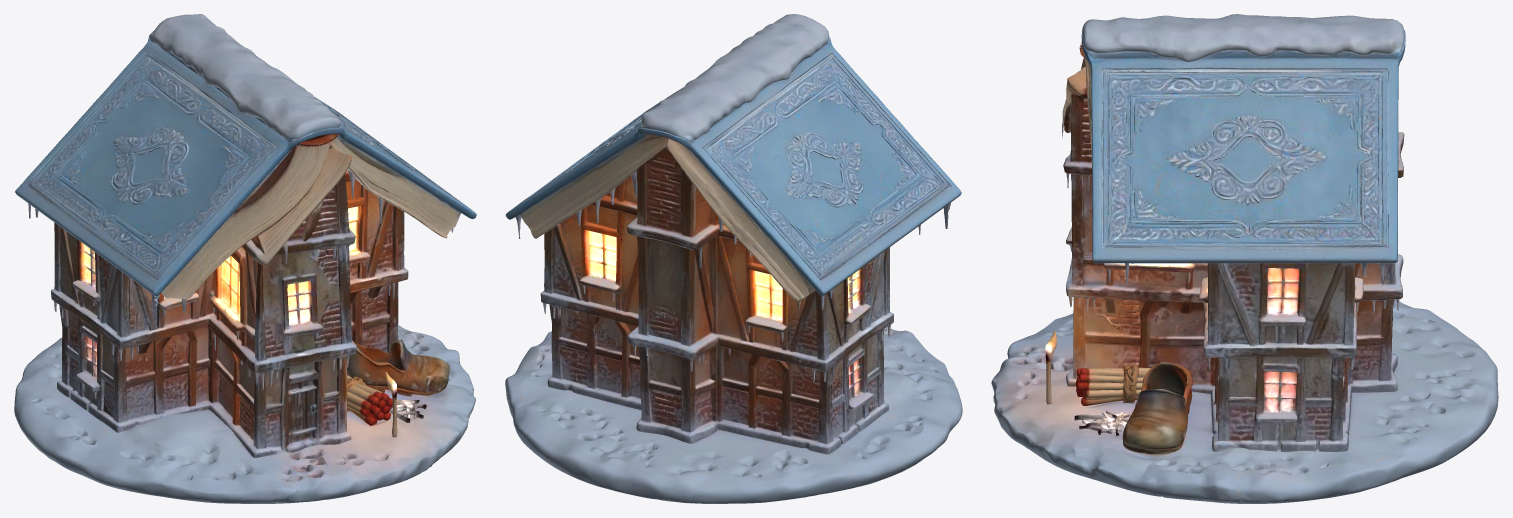
File: little-match-girl.glb
The picture shows the model from 3 angles, left to right: view 1: azimuth 30°, elevation 25°; view 2: azimuth 150°, elevation 25°; view 3: azimuth 270°, elevation 25°; orthographic projection. The views are drawn at different scales.
Visible parts, largest first — view 1: model; view 2: model; view 3: model.
Part boxes in pixels (x1,y1,x2,y2): model: (14, 14, 476, 503); model: (505, 14, 962, 503); model: (991, 14, 1498, 503).
Size of the model in its own units: 1.9 by 1.56 by 1.89.
1 material, 1 textured.
